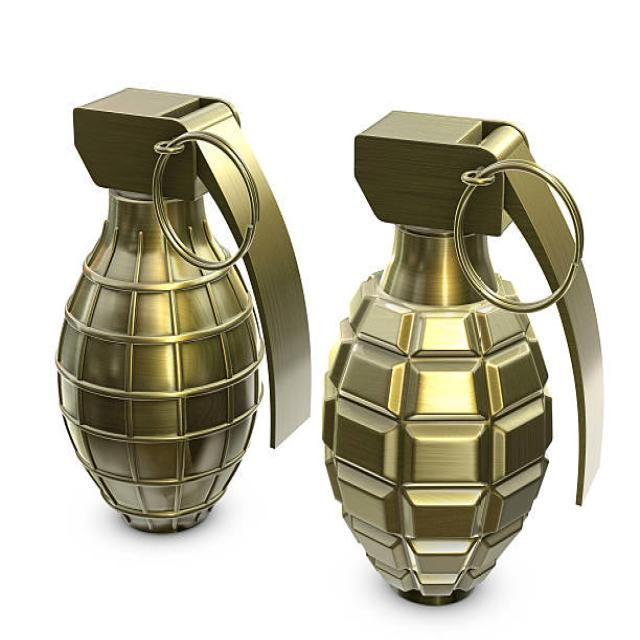grenade: (316, 107, 609, 609), (49, 84, 315, 541)
